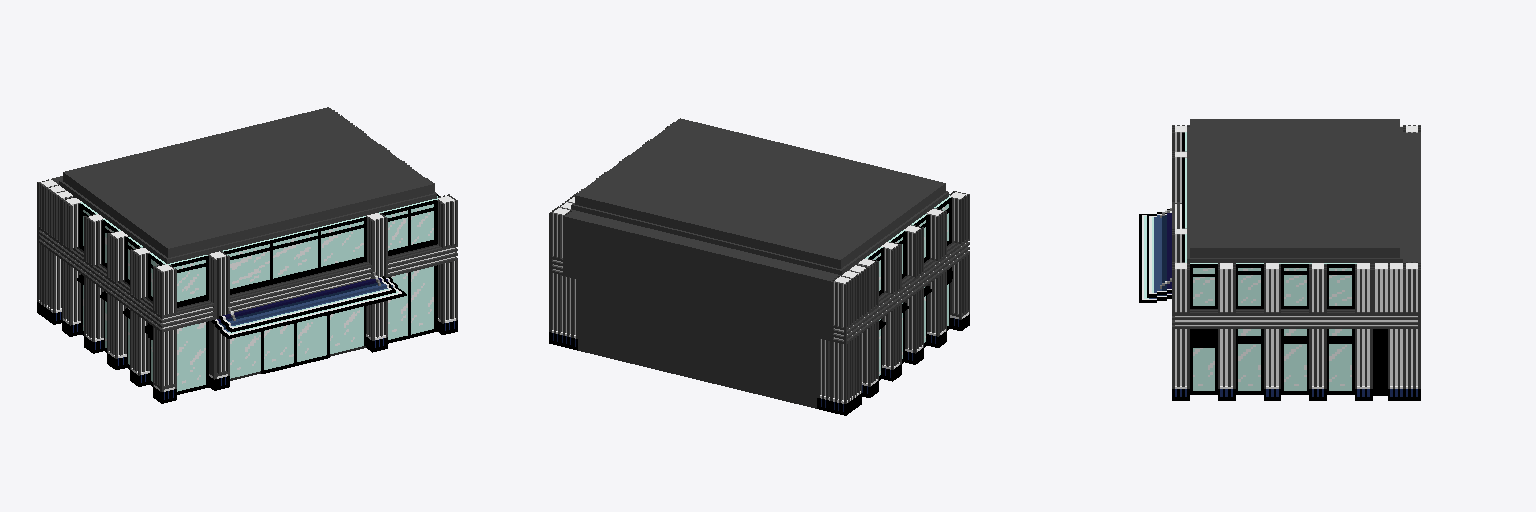
3 views of the same model, side by side, from view 1: azimuth 30°, elevation 25°; view 2: azimuth 150°, elevation 25°; view 3: azimuth 270°, elevation 25° (orthographic).
Visible parts, largest first — view 1: object 1; view 2: object 1; view 3: object 1.
Part boxes in pixels (left/top/right/bottom): object 1: left=37, top=107, right=457, bottom=403; object 1: left=549, top=118, right=969, bottom=415; object 1: left=1139, top=119, right=1420, bottom=400.
Size of the model in its own units: 13.5 by 6.3 by 11.1.
1 materials, 1 textured.